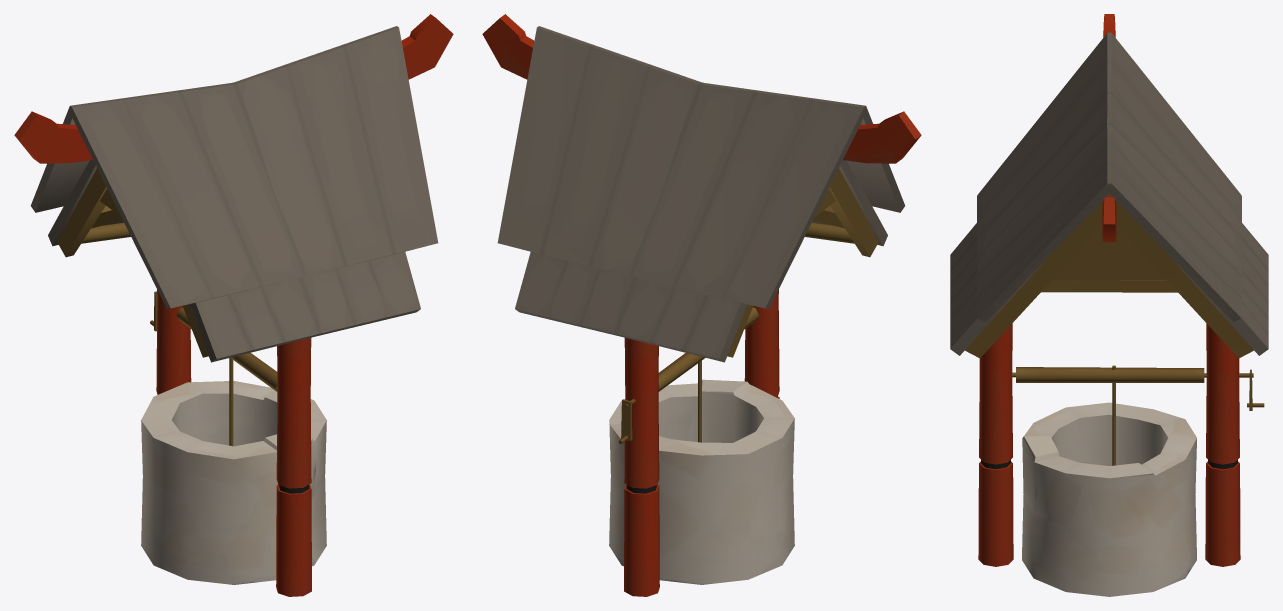
Rendered from puit01.FBX.
3 renders of one model, left to right at view 1: azimuth 30°, elevation 25°; view 2: azimuth 150°, elevation 25°; view 3: azimuth 270°, elevation 25°, orthographic. The views are drawn at different scales.
Parts seen in each view (by area): view 1: puit01; view 2: puit01; view 3: puit01.
Part boxes in pixels (left/top/right/bottom): puit01: left=14, top=14, right=453, bottom=596; puit01: left=482, top=14, right=921, bottom=596; puit01: left=950, top=14, right=1268, bottom=596.
Size of the model in its own units: 3.02 by 3.21 by 2.04.
